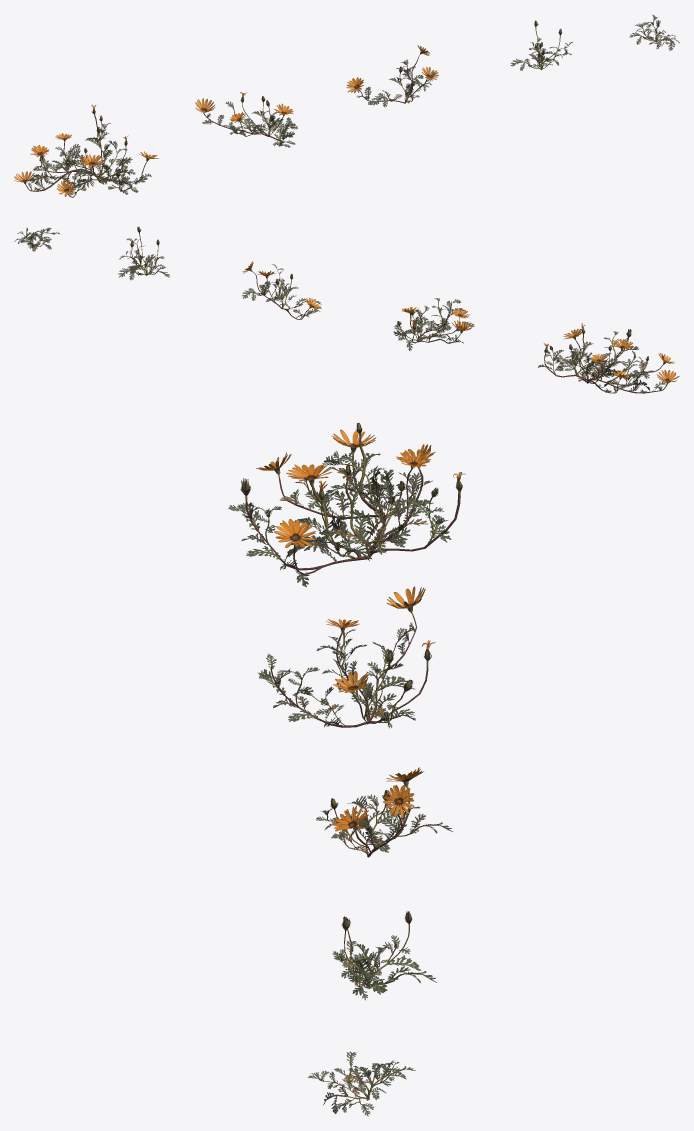
File: flower_ursinia_1k.gltf
3 renders of one model, top to bottom at view 1: azimuth 30°, elevation 25°; view 2: azimuth 150°, elevation 25°; view 3: azimuth 270°, elevation 25°, orthographic. The views are drawn at different scales.
Visible parts, largest first — view 1: flower_ursinia_a_LOD0, flower_ursinia_b_LOD0, flower_ursinia_c_LOD0, flower_ursinia_d_LOD0, flower_ursinia_e_LOD0; view 2: flower_ursinia_a_LOD0, flower_ursinia_b_LOD0, flower_ursinia_c_LOD0, flower_ursinia_d_LOD0, flower_ursinia_e_LOD0; view 3: flower_ursinia_a_LOD0, flower_ursinia_b_LOD0, flower_ursinia_c_LOD0, flower_ursinia_d_LOD0, flower_ursinia_e_LOD0.
Boxes of the visible parts, x1,y1,x2,y2 form: flower_ursinia_a_LOD0: (14, 104, 159, 197); flower_ursinia_b_LOD0: (195, 92, 297, 147); flower_ursinia_c_LOD0: (346, 45, 438, 107); flower_ursinia_d_LOD0: (510, 20, 572, 70); flower_ursinia_e_LOD0: (629, 15, 679, 50); flower_ursinia_a_LOD0: (538, 323, 679, 393); flower_ursinia_b_LOD0: (393, 298, 474, 350); flower_ursinia_c_LOD0: (242, 261, 321, 319); flower_ursinia_d_LOD0: (118, 226, 169, 280); flower_ursinia_e_LOD0: (14, 227, 59, 251); flower_ursinia_a_LOD0: (228, 423, 465, 587); flower_ursinia_b_LOD0: (258, 586, 435, 728); flower_ursinia_c_LOD0: (316, 767, 452, 857); flower_ursinia_d_LOD0: (332, 911, 436, 1000); flower_ursinia_e_LOD0: (307, 1051, 415, 1116).
Size of the model in its own units: 2.19 by 0.1718 by 0.3433.
1 material, 1 textured.
